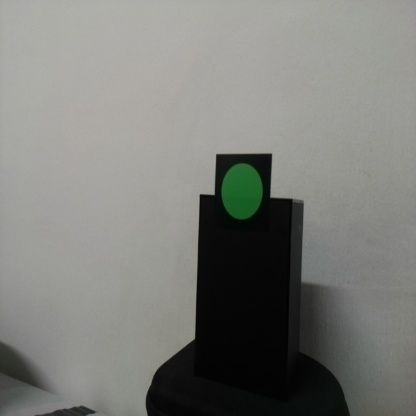id_5: (216, 155, 271, 236)
